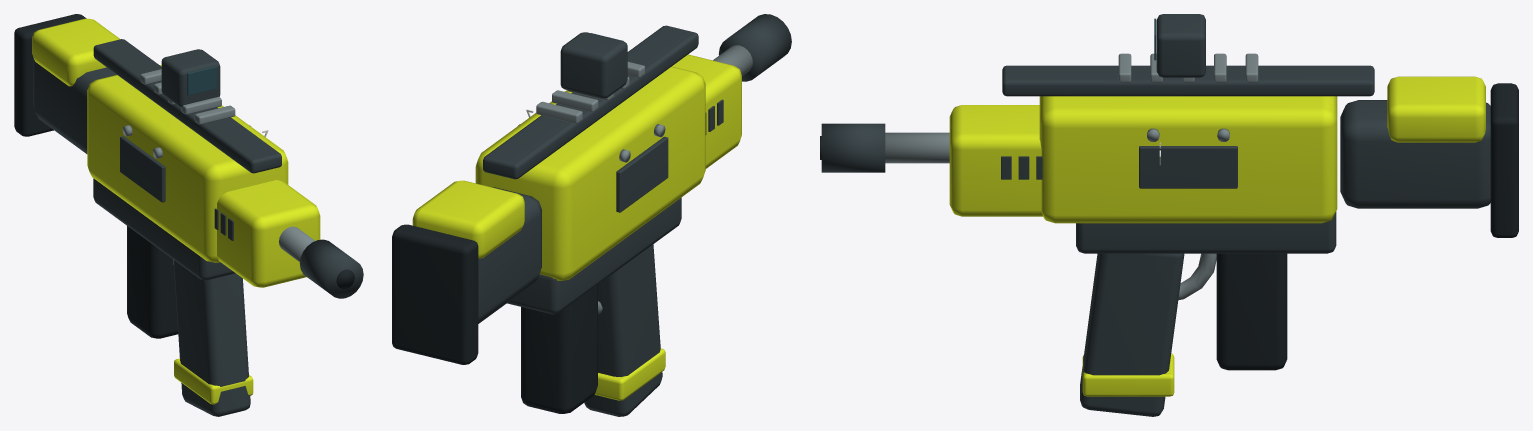
File: k27_carbine_hazard.glb
The picture shows the model from 3 angles, left to right: view 1: azimuth 30°, elevation 25°; view 2: azimuth 150°, elevation 25°; view 3: azimuth 270°, elevation 25°; orthographic projection. The views are drawn at different scales.
Visible parts, largest first — view 1: k27_carbine_hazard; view 2: k27_carbine_hazard; view 3: k27_carbine_hazard.
Part boxes in pixels (x1,y1,x2,y2): k27_carbine_hazard: (14, 14, 363, 416); k27_carbine_hazard: (392, 14, 791, 416); k27_carbine_hazard: (820, 14, 1518, 416).
Bounding box in the file's own units: 0.2207 × 0.6045 × 0.9915.
